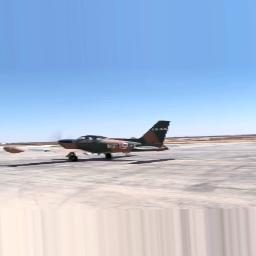Airplane: (57, 119, 171, 161)
